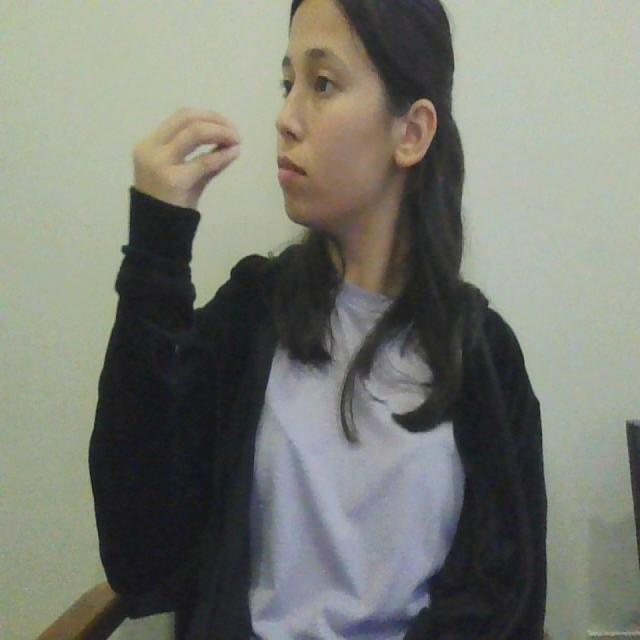Yemek: (133, 102, 300, 202)
